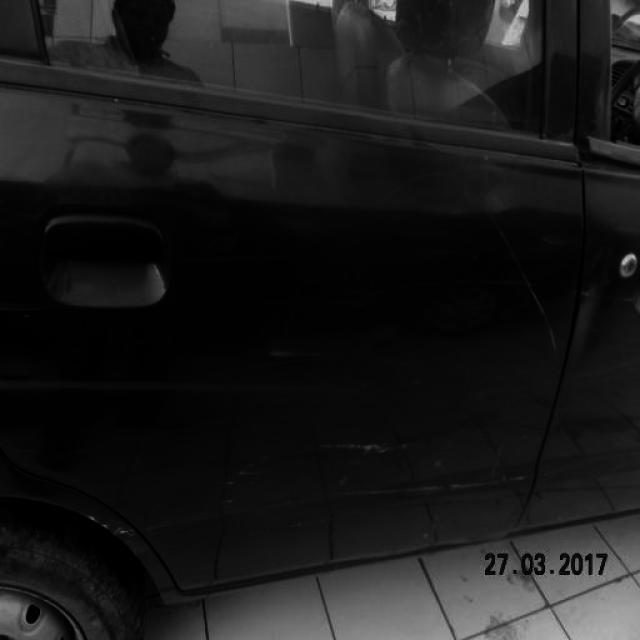car damage: (186, 274, 636, 312), (487, 216, 564, 356), (217, 446, 279, 509), (317, 432, 405, 470)
